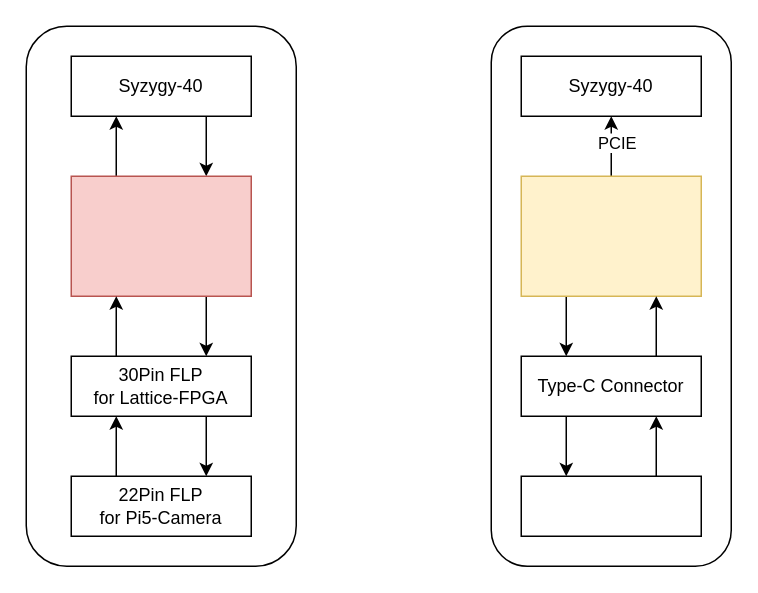
Image size: 758x593. Some labels were removed from this diagram. The centre of each missing label's shape, as x and y in pixels:
MC20901 MIPI to LVDS 5-Pair to 10-Pair: the point at 160,235
Other TB-x Interface: the point at 610,505
Thunderbolt-X Board: the point at 610,235
